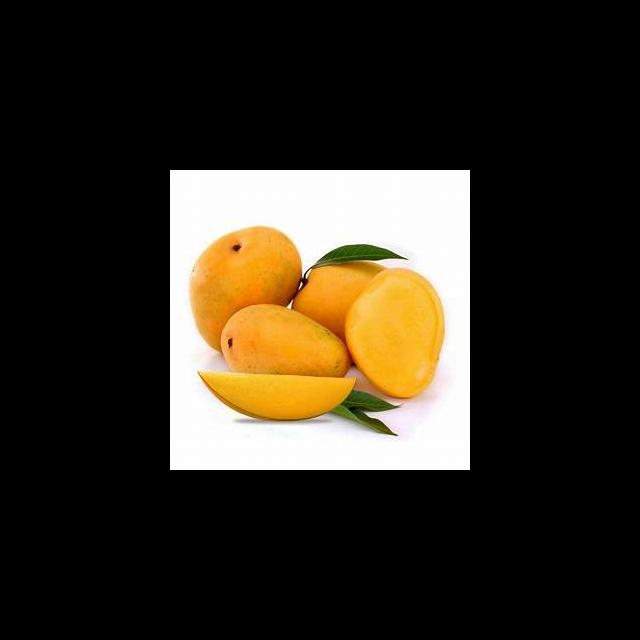mango: (188, 226, 302, 354), (347, 270, 446, 400), (224, 304, 352, 379)
